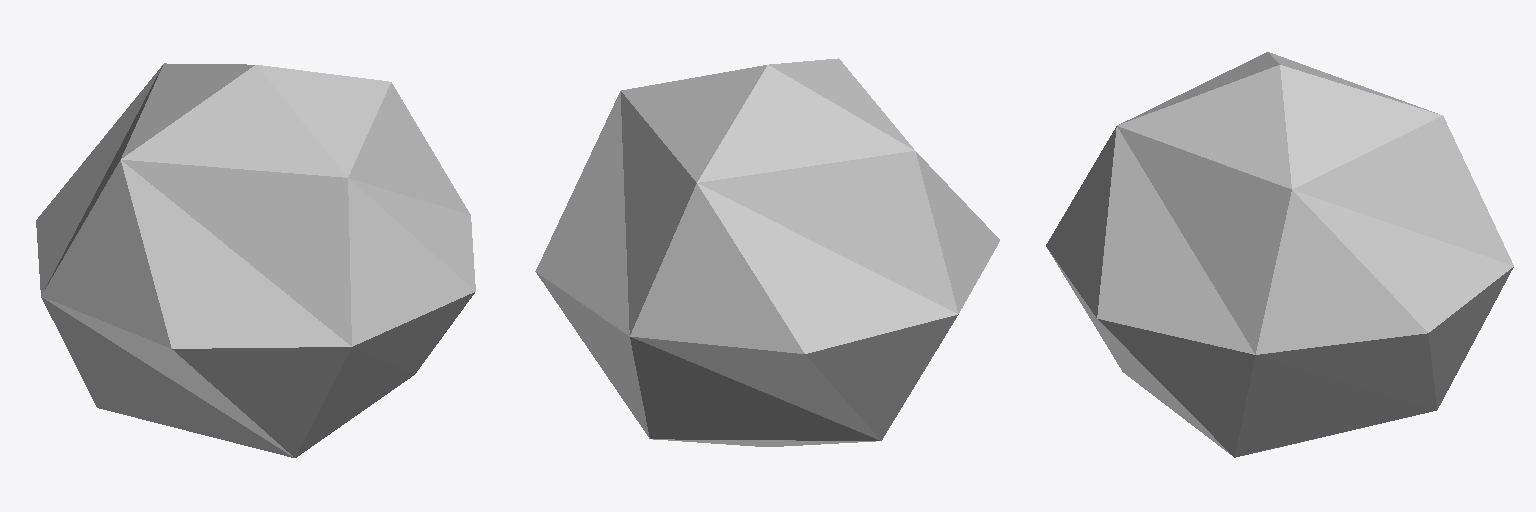
File: cloud3.obj
3 renders of one model, left to right at view 1: azimuth 30°, elevation 25°; view 2: azimuth 150°, elevation 25°; view 3: azimuth 270°, elevation 25°, orthographic.
Visible parts, largest first — view 1: GeoSphere003; view 2: GeoSphere003; view 3: GeoSphere003.
Part boxes in pixels (left/top/right/bottom): GeoSphere003: left=36, top=63, right=475, bottom=457; GeoSphere003: left=535, top=58, right=999, bottom=446; GeoSphere003: left=1046, top=52, right=1513, bottom=457.
Size of the model in its own units: 0.6305 by 0.5684 by 0.6305.